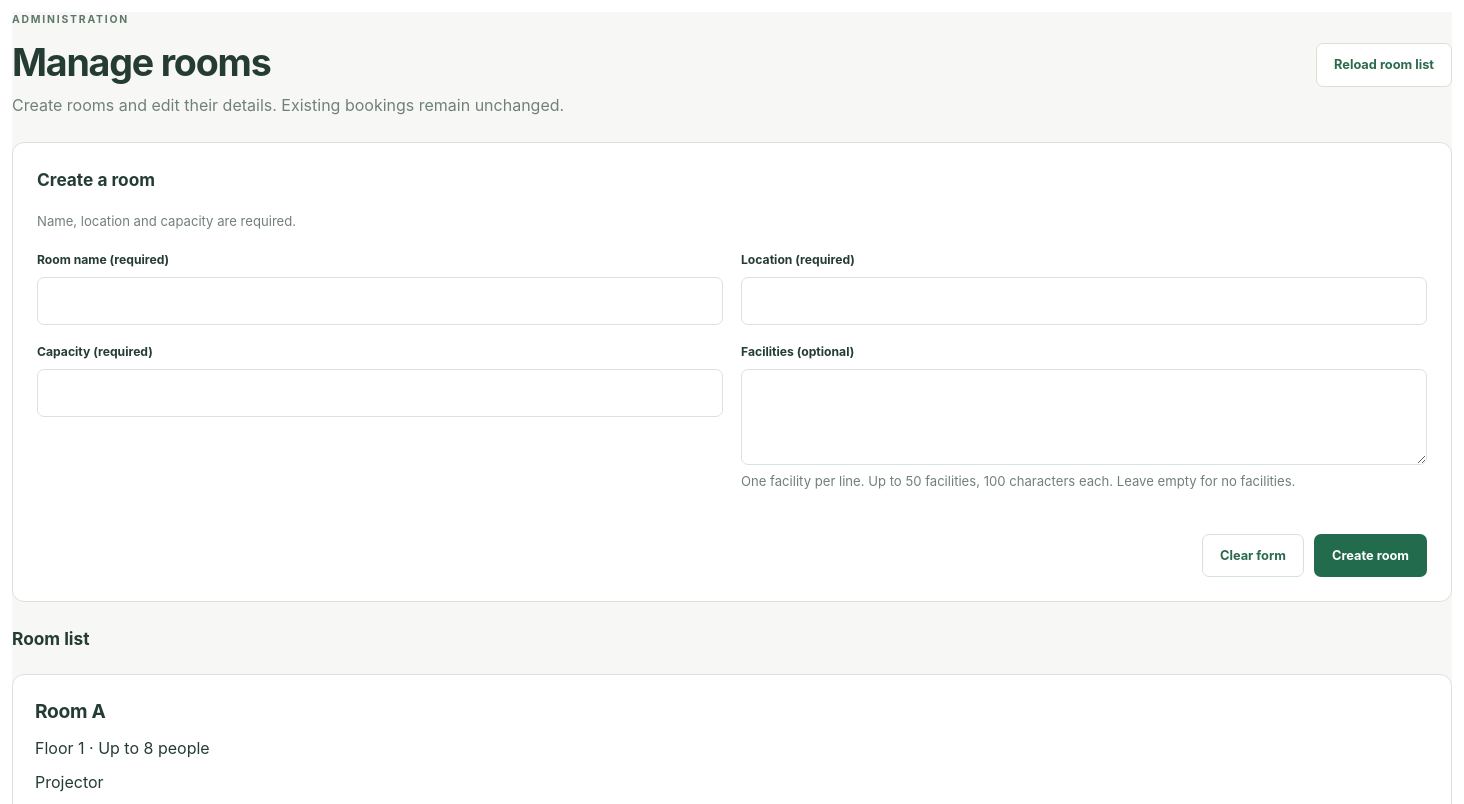
Test: TC13 / TC14 admin room UI › focuses and shows required validation without sending a write
The image size is (1464, 804).
Click the button "Create room": point(1370, 555) [1314,534,1427,577]
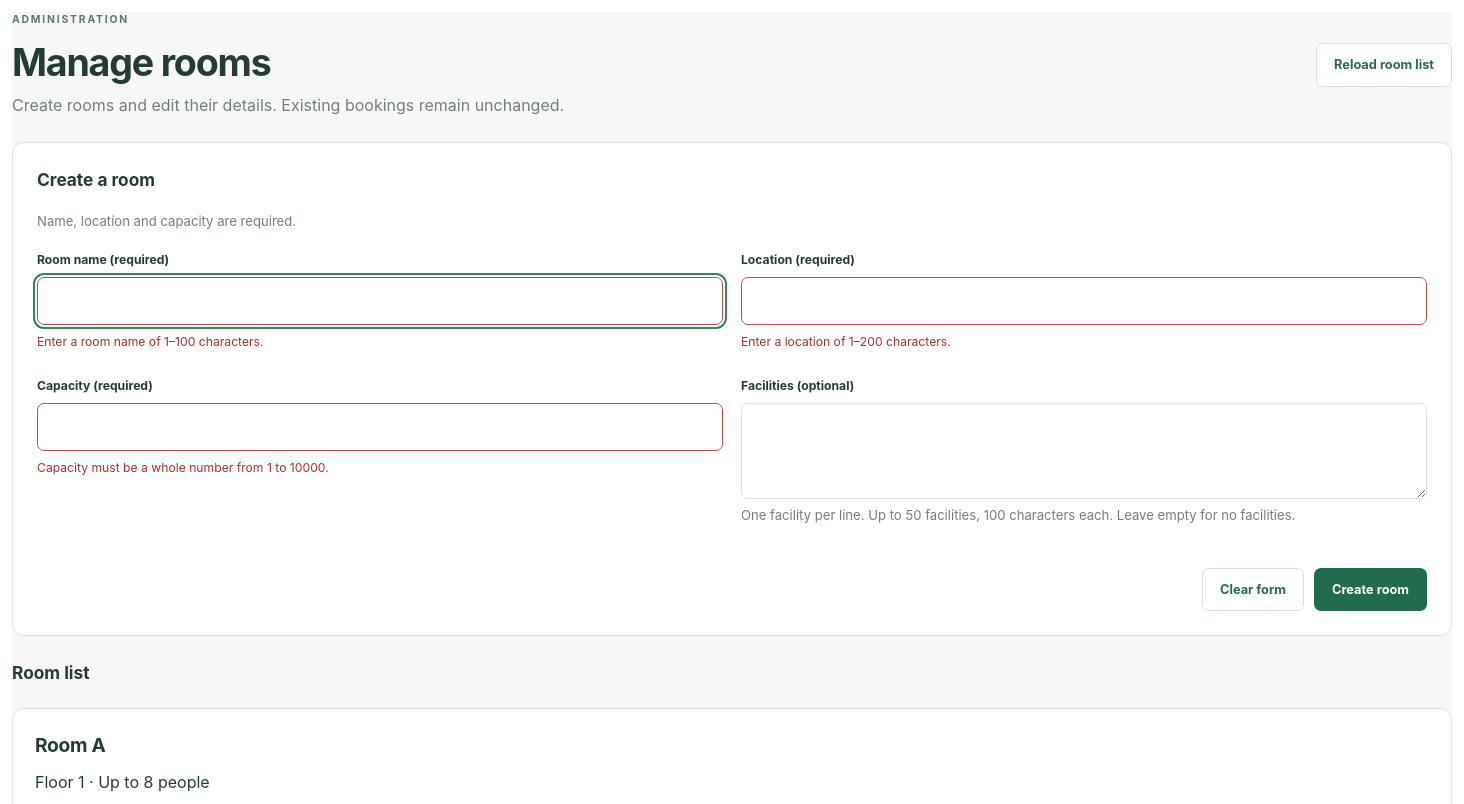
Result: the text "Enter a room name of 1–100 characters." is shown at [37,334,264,349]
